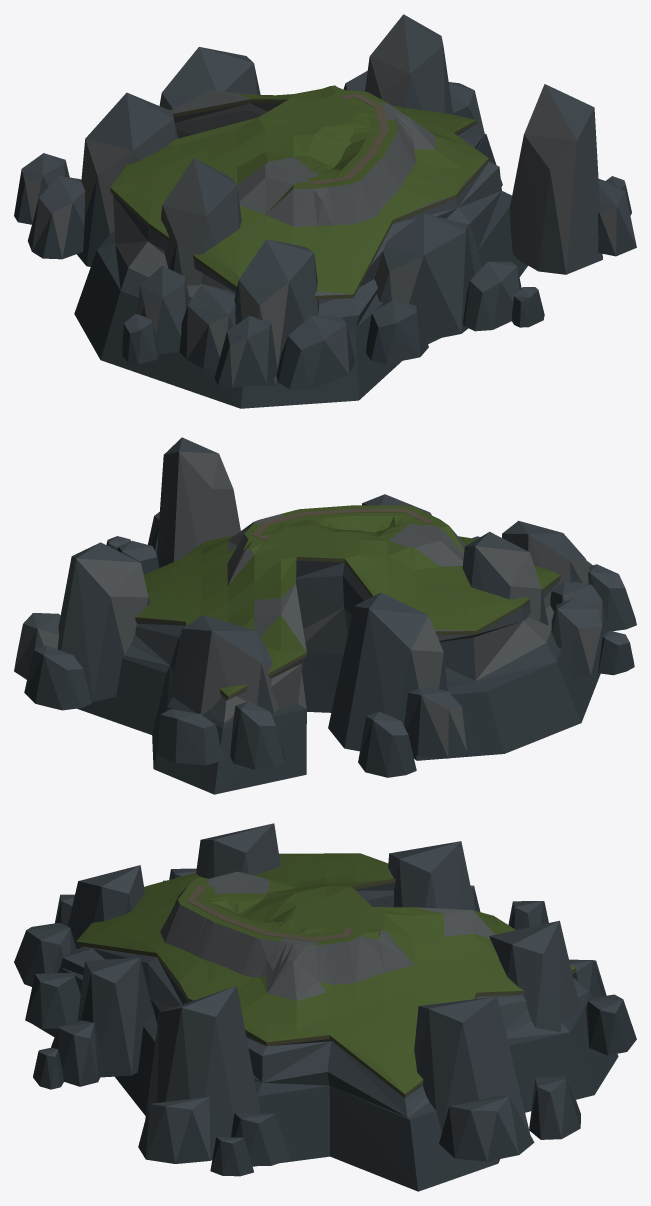
File: island_c.glb
3 renders of one model, top to bottom at view 1: azimuth 30°, elevation 25°; view 2: azimuth 150°, elevation 25°; view 3: azimuth 270°, elevation 25°, orthographic. The views are drawn at different scales.
Visible parts, largest first — view 1: island_c_Coast blue grey bedrock, island_c_Coast short olive grass, island_c_Coast weathered stone footpath; view 2: island_c_Coast blue grey bedrock, island_c_Coast short olive grass, island_c_Coast weathered stone footpath; view 3: island_c_Coast blue grey bedrock, island_c_Coast short olive grass, island_c_Coast weathered stone footpath.
Part boxes in pixels (x1,y1,x2,y2): island_c_Coast blue grey bedrock: (14, 14, 636, 408); island_c_Coast short olive grass: (110, 85, 488, 299); island_c_Coast weathered stone footpath: (309, 93, 389, 184); island_c_Coast blue grey bedrock: (14, 437, 636, 794); island_c_Coast short olive grass: (135, 505, 560, 699); island_c_Coast weathered stone footpath: (252, 508, 433, 540); island_c_Coast blue grey bedrock: (14, 823, 636, 1191); island_c_Coast short olive grass: (76, 853, 575, 1097); island_c_Coast weathered stone footpath: (187, 885, 353, 941).
Size of the model in its own units: 94.61 by 29.93 by 92.36.
